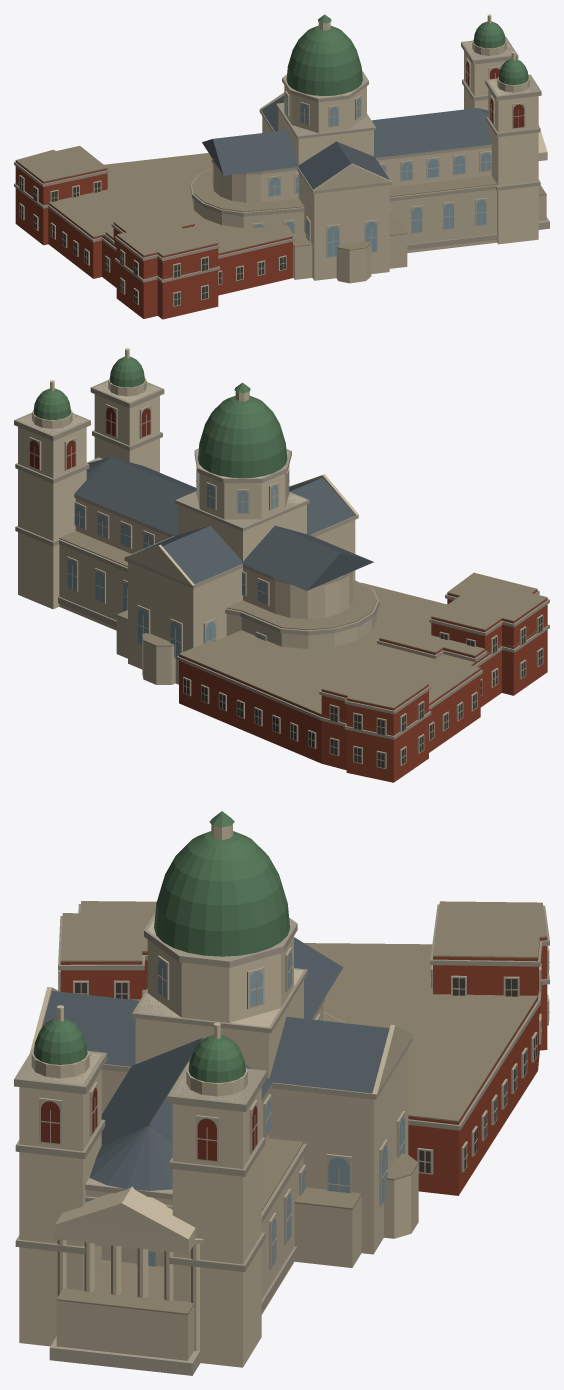
The model's file is cathedral-of-the-sacred-heart.glb.
3 renders of one model, top to bottom at view 1: azimuth 30°, elevation 25°; view 2: azimuth 150°, elevation 25°; view 3: azimuth 270°, elevation 25°, orthographic. The views are drawn at different scales.
Parts seen in each view (by area): view 1: base; view 2: base; view 3: base.
Part boxes in pixels (x1=…): base: x1=14, y1=14, x2=549, y2=319; base: x1=14, y1=348, x2=549, y2=782; base: x1=14, y1=811, x2=549, y2=1375.
Size of the model in its own units: 86.46 by 44 by 54.05.
